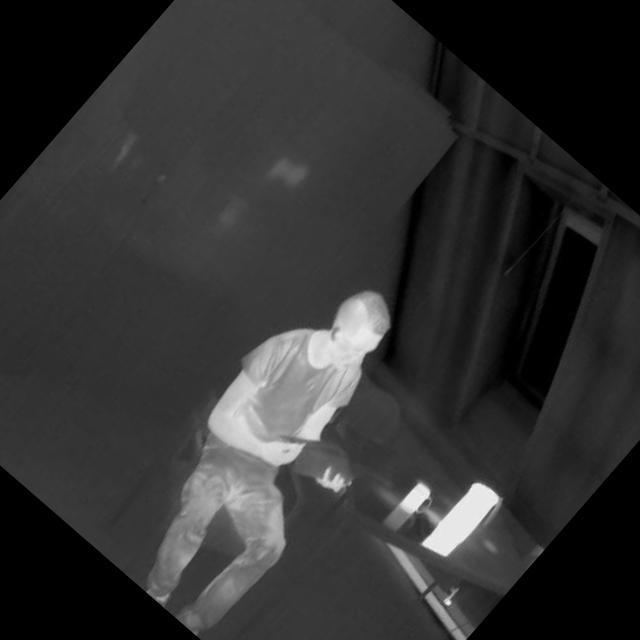person: (85, 246, 467, 640)
